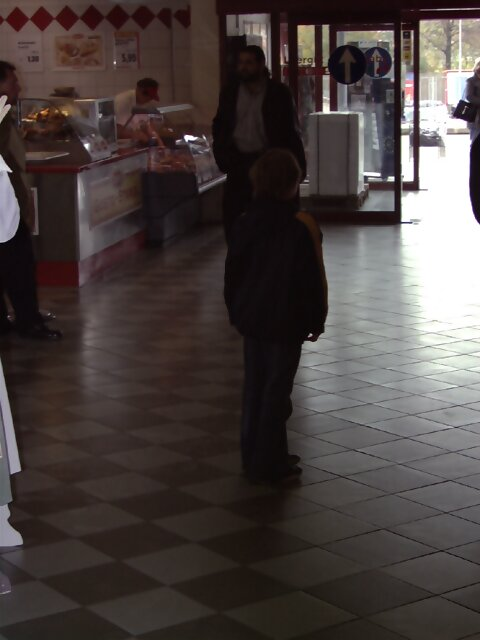person: (220, 141, 346, 484)
